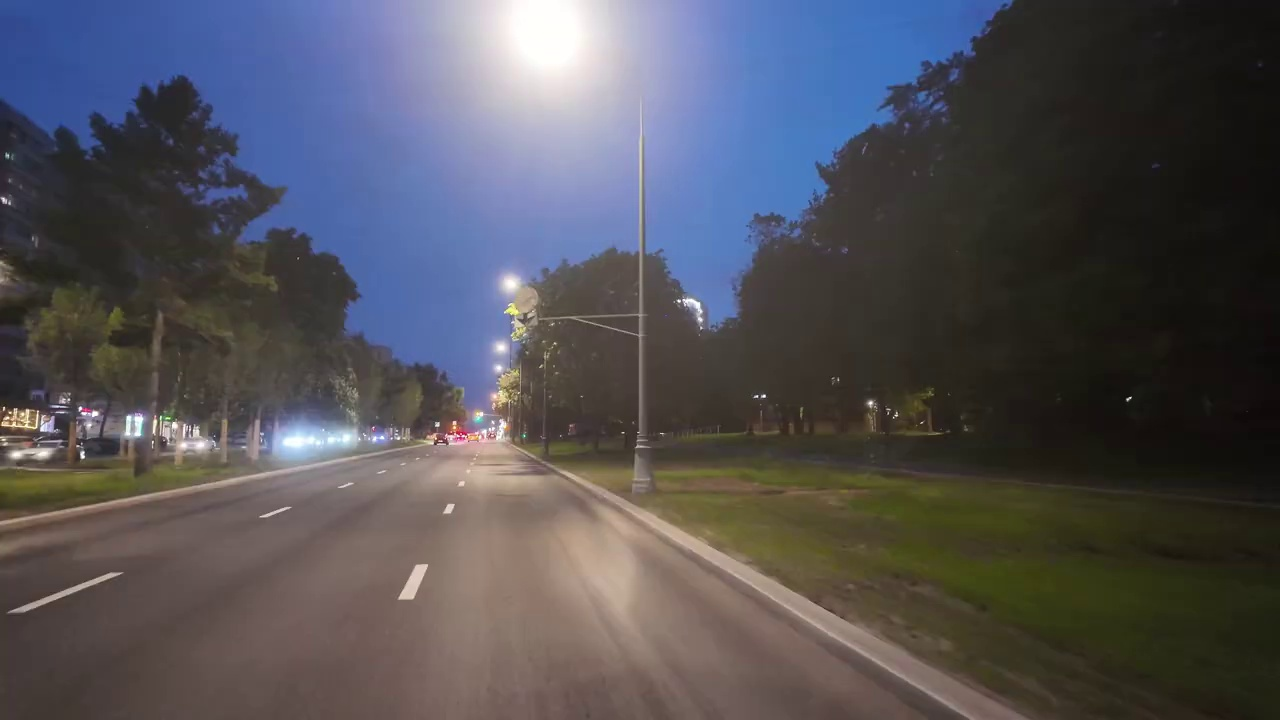acesa: (500, 10, 587, 77), (499, 272, 533, 308)
